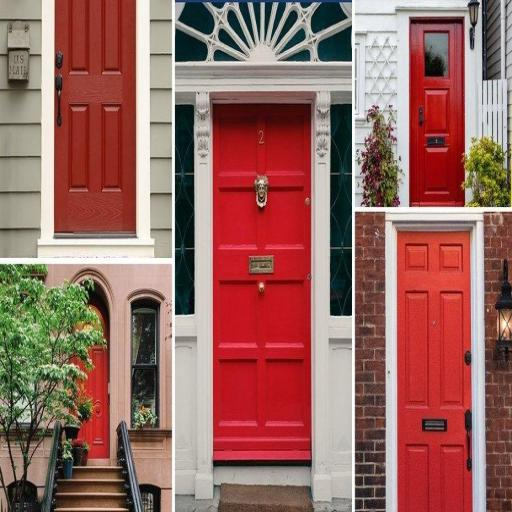door: (197, 92, 322, 512)
